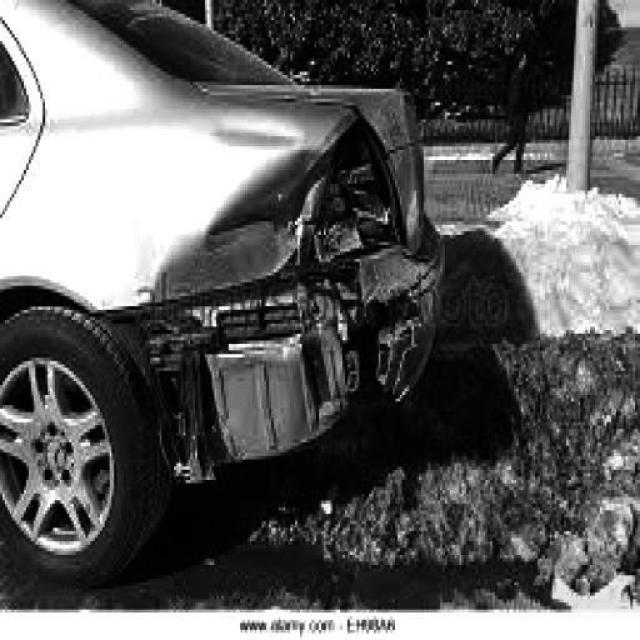car damage: (92, 108, 423, 485)
